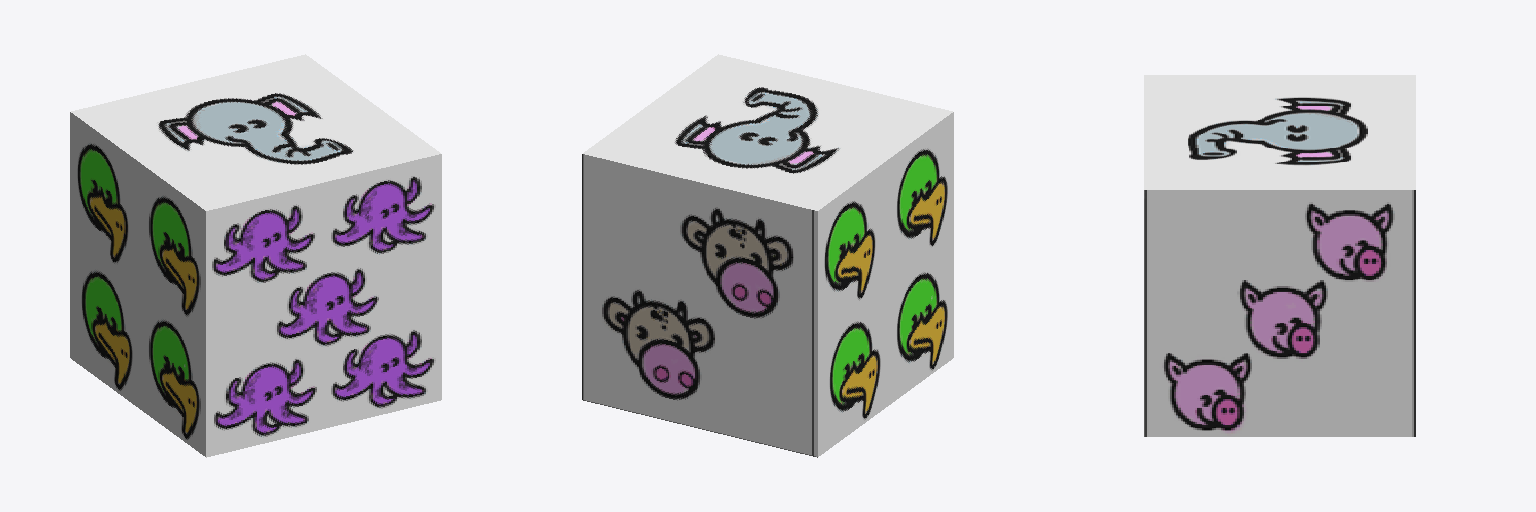
3 renders of one model, left to right at view 1: azimuth 30°, elevation 25°; view 2: azimuth 150°, elevation 25°; view 3: azimuth 270°, elevation 25°, orthographic.
Visible parts, largest first — view 1: Box001; view 2: Box001; view 3: Box001.
Part boxes in pixels (x1,y1,x2,y2): Box001: (70,54,441,457); Box001: (582,54,953,457); Box001: (1144,75,1415,436).
Size of the model in its own units: 24.6 by 24.6 by 24.6.
1 materials, 1 textured.